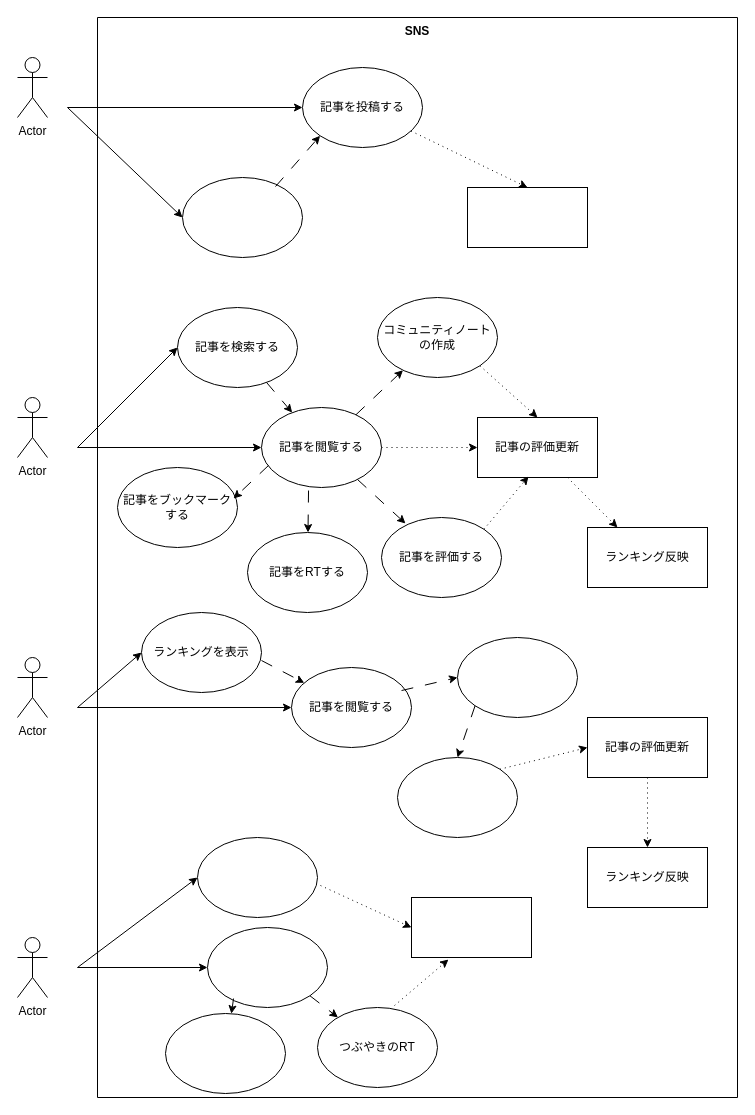
Some shapes in this 755 by 1115 pixel diagram are drawn without their labels. Here are the shapes that lost their labels. From the top down, the centre of each, then its label:
At (x=242, y=217): "記事を修正する".
At (x=527, y=217): "記事の登録".
At (x=517, y=677): "コミュニティノートの閲覧".
At (x=457, y=797): "コミュニティノートの評価".
At (x=257, y=877): "つぶやく".
At (x=471, y=927): "TLの更新".
At (x=267, y=967): "つぶやきの閲覧".
At (x=225, y=1053): "つぶやきのブックマーク".
